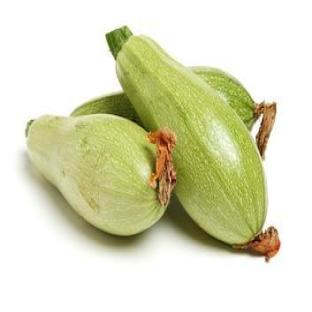Zucchini: (107, 27, 279, 257), (27, 114, 175, 235), (191, 66, 275, 158)
